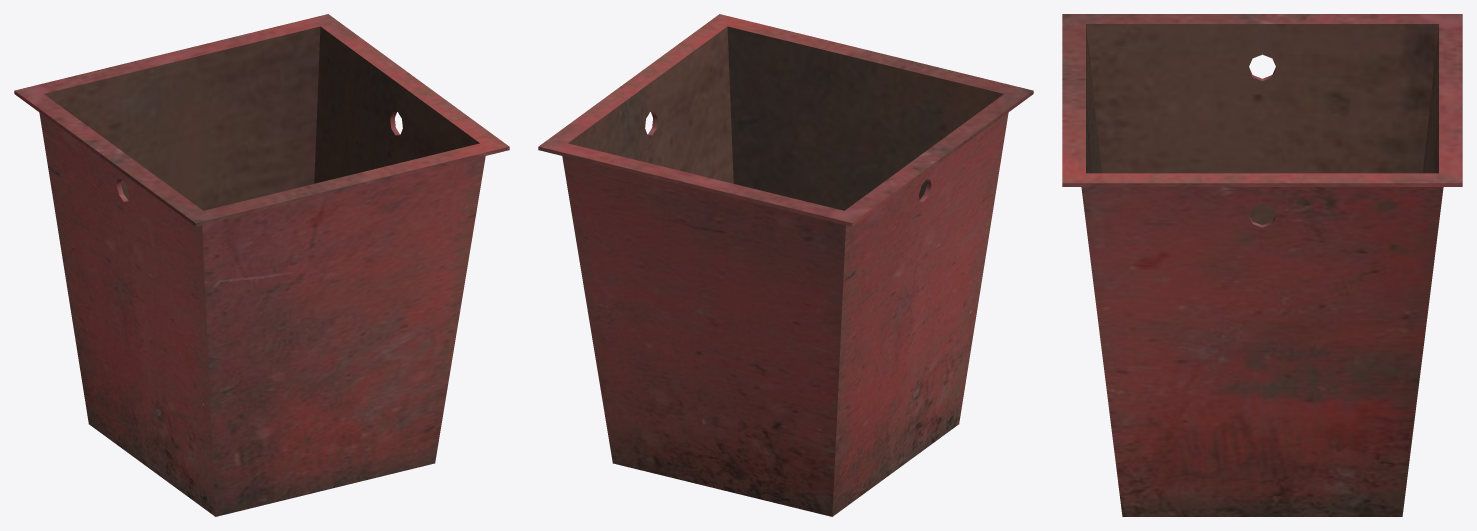
Rendered from urn_red.glb.
3 renders of one model, left to right at view 1: azimuth 30°, elevation 25°; view 2: azimuth 150°, elevation 25°; view 3: azimuth 270°, elevation 25°, orthographic. The views are drawn at different scales.
Parts seen in each view (by area): view 1: urn_red; view 2: urn_red; view 3: urn_red.
Part boxes in pixels (x1=…): urn_red: x1=14, y1=14, x2=509, y2=516; urn_red: x1=538, y1=14, x2=1033, y2=516; urn_red: x1=1062, y1=14, x2=1462, y2=516.
Size of the model in its own units: 0.5243 by 0.5188 by 0.5243.
1 material, 1 textured.
